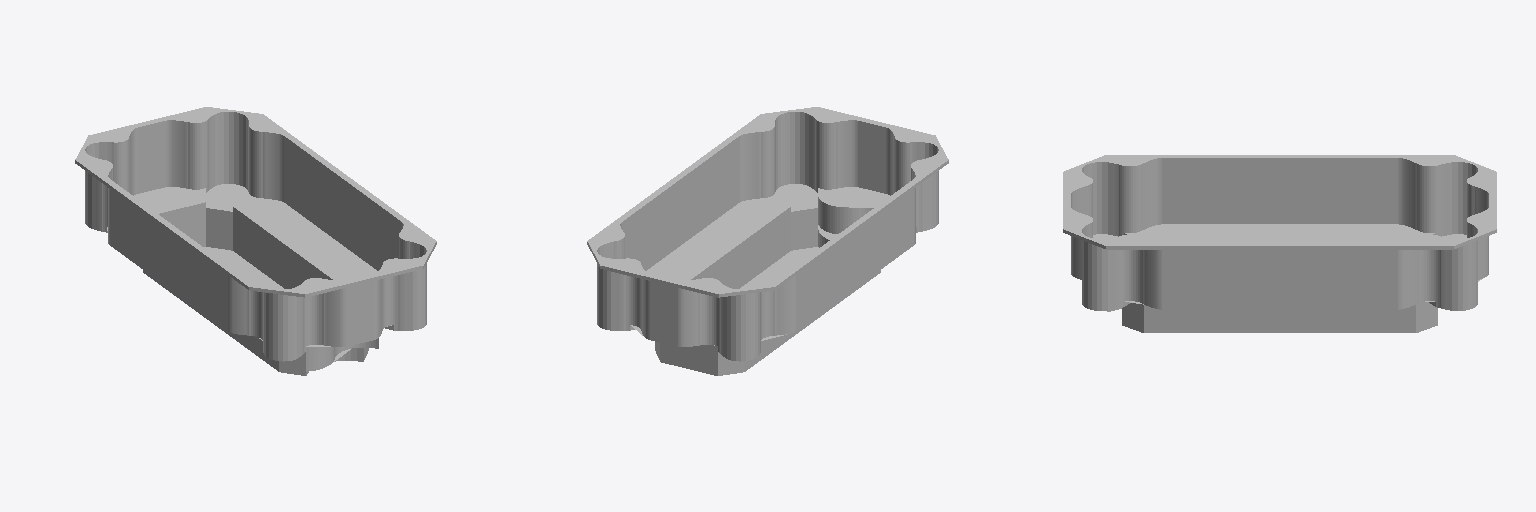
File: LATIKA_BLANCA.obj
The picture shows the model from 3 angles: view 1: azimuth 30°, elevation 25°; view 2: azimuth 150°, elevation 25°; view 3: azimuth 270°, elevation 25°; orthographic projection.
Visible parts, largest first — view 1: Mesh1 Group1 Model; view 2: Mesh1 Group1 Model; view 3: Mesh1 Group1 Model.
Part boxes in pixels (bbox=[...]): Mesh1 Group1 Model: bbox=[75, 107, 436, 375]; Mesh1 Group1 Model: bbox=[587, 107, 948, 375]; Mesh1 Group1 Model: bbox=[1063, 155, 1496, 332].
Size of the model in its own units: 225 by 127 by 450.